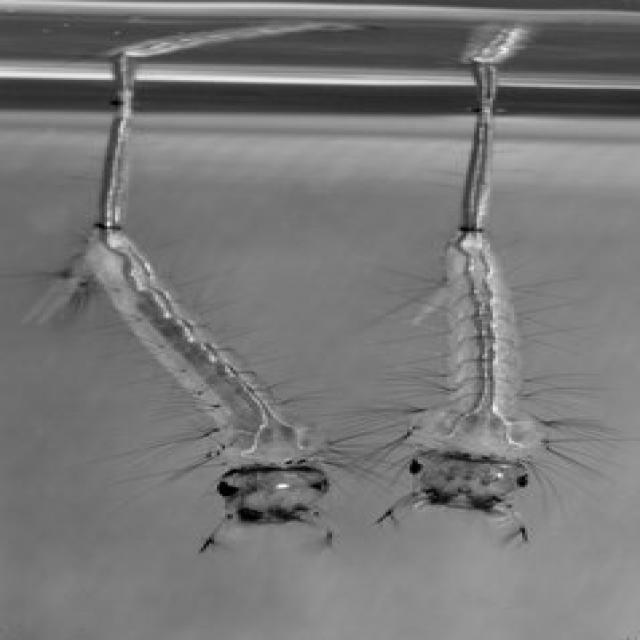larvas: (65, 58, 335, 550), (410, 63, 533, 542)
